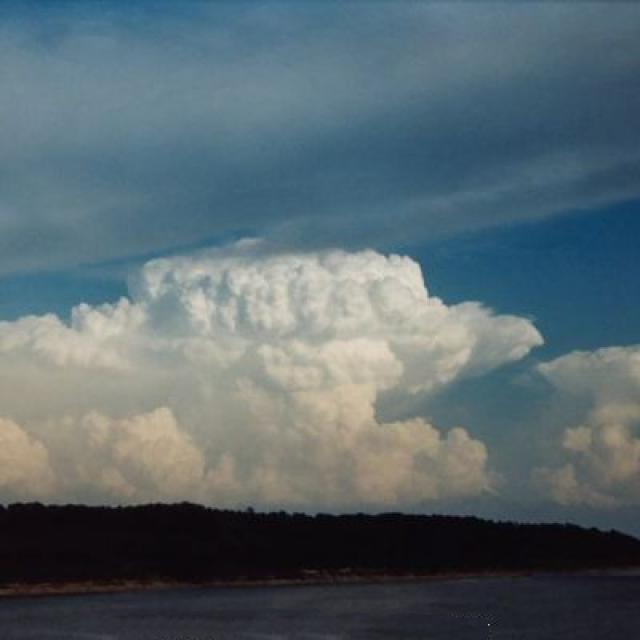As: (4, 229, 561, 473)
